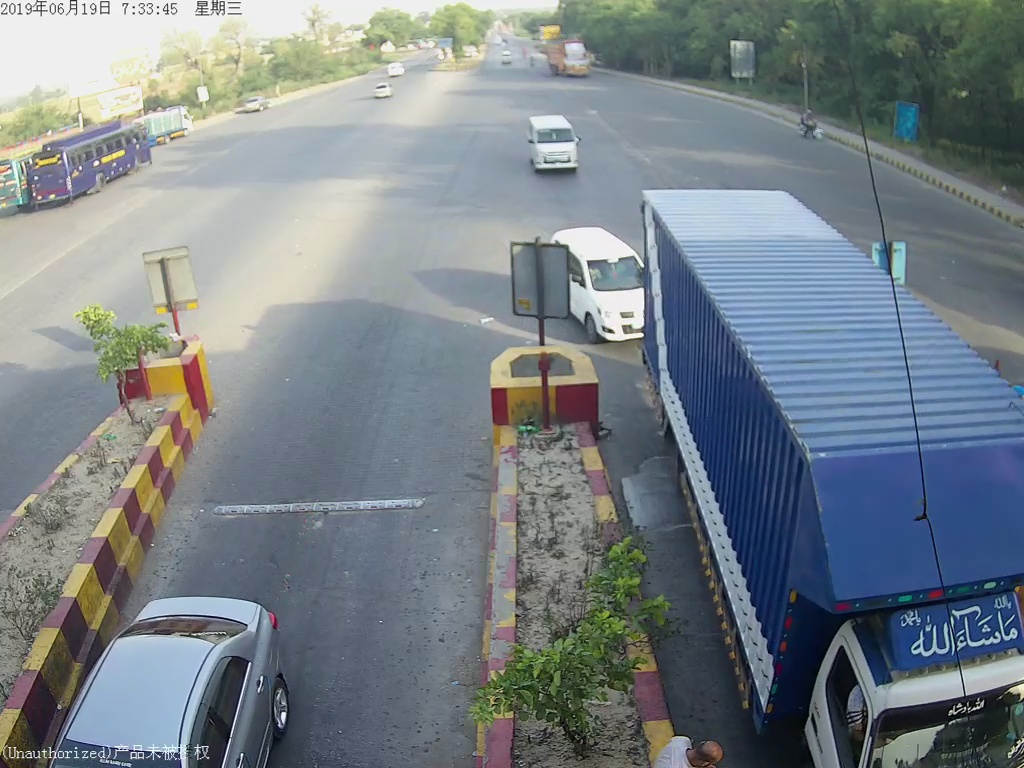Cat-1: (578, 234, 646, 351)
Cat-2: (519, 110, 583, 173)
